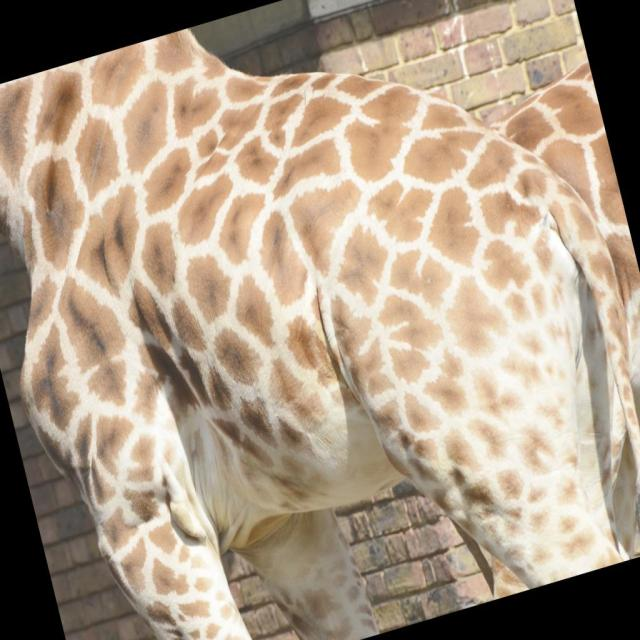Giraffe: (0, 30, 640, 640)
